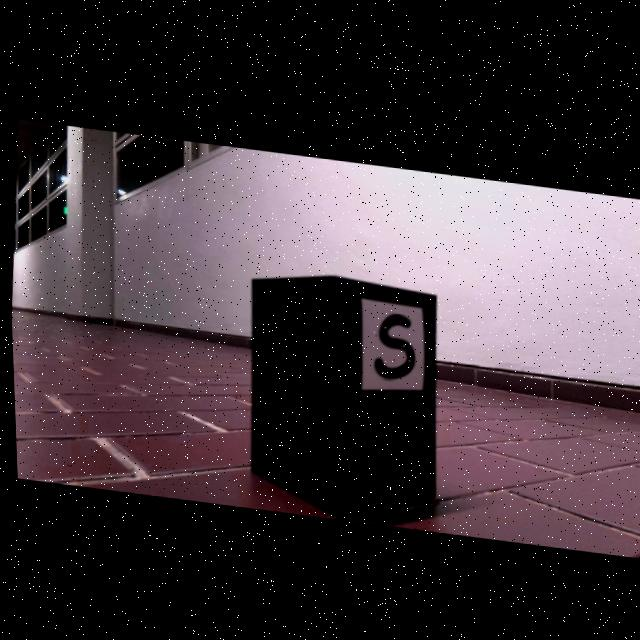S: (370, 309, 412, 375)
